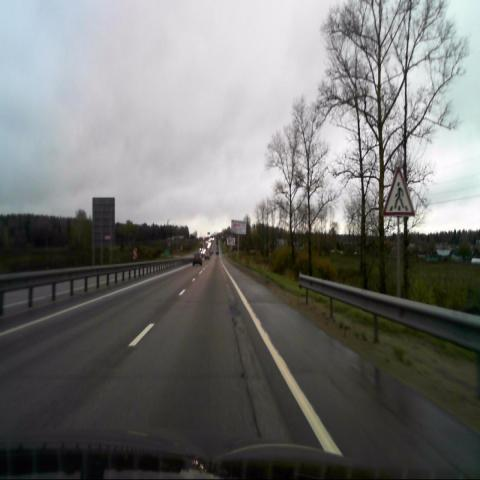1_22: (384, 167, 415, 216)
